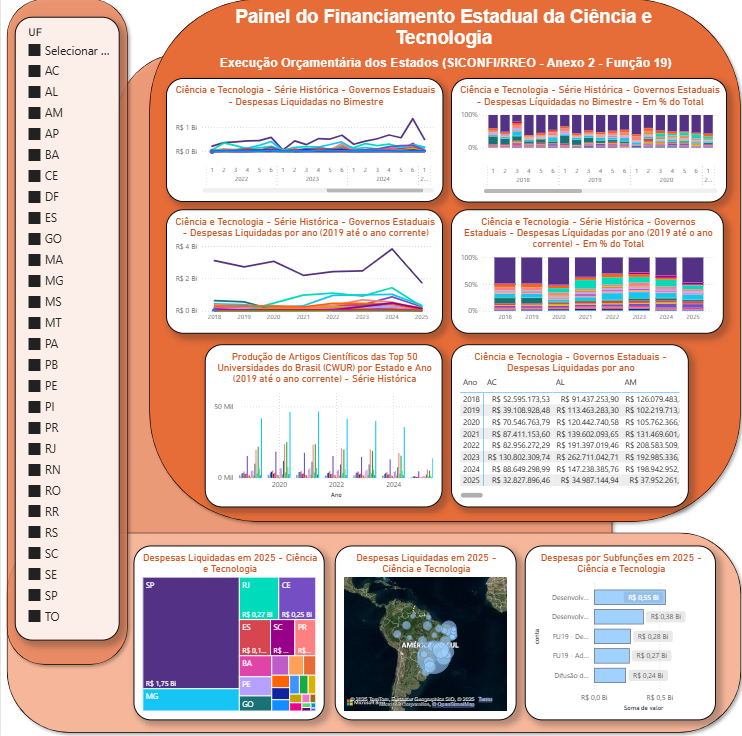

The page's visual inventory and layout, read from the dashboard file:
{"tool":"powerbi","page":{"name":"Demonstrativo do estado","canvas":[1280,1280],"ordinal":0},"visuals":[{"type":"shape","box":[187.5,92.5,872.5,1070],"z":0},{"type":"shape","box":[0,916.7,1280,363.3],"z":1000},{"type":"shape","box":[0,0,227.5,1162.5],"z":2000},{"type":"shape","box":[245,0,1035,917.5],"z":3000},{"type":"slicer","fields":{"Values":["gastos_fun19_liquidados_bimestrais.uf"]},"box":[23.3,40,180,1070],"z":4000},{"type":"textbox","box":[372.5,17.5,772.5,85],"z":5000},{"type":"textbox","box":[352.5,102.5,822.5,55],"z":6000},{"type":"hundredPercentStackedColumnChart","title":"Ciência e Tecnologia - Série Histórica - Governos Estaduais - Despesas Líquidadas por ano (2019 até o ano corrente) - Em % do Total","fields":{"Category":["gastos_fun19_liquidados_bimestrais.exercicio"],"Y":["Sum(gastos_fun19_liquidados_bimestrais.valor)"],"Series":["gastos_fun19_liquidados_bimestrais.uf"]},"box":[771.7,370,468.3,213.3],"z":7000},{"type":"lineChart","title":"Ciência e Tecnologia - Série Histórica - Governos Estaduais - Despesas Liquidadas por ano (2019 até o ano corrente)","fields":{"Category":["gastos_fun19_liquidados_bimestrais.exercicio"],"Y":["Sum(gastos_fun19_liquidados_bimestrais.valor)"],"Series":["gastos_fun19_liquidados_bimestrais.uf"]},"box":[283.3,370,475,213.3],"z":8000},{"type":"lineClusteredColumnComboChart","title":"Produção de Artigos Científicos das Top 50 Universidades do Brasil (CWUR) por Estado e Ano (2019 até o ano corrente) - Série Histórica","fields":{"Category":["top50_universidades_ano_estado.Ano"],"Y":["Sum(top50_universidades_ano_estado.Artigos)"],"Series":["top50_universidades_ano_estado.Estado"]},"box":[350,603.3,408.3,280],"z":9000},{"type":"lineChart","title":"Ciência e Tecnologia - Série Histórica - Governos Estaduais - Despesas Liquidadas no Bimestre","fields":{"Category":["gastos_fun19_liquidados_bimestrais.exercicio Hierarquia.exercicio","gastos_fun19_liquidados_bimestrais.exercicio Hierarquia.bimestre"],"Y":["Sum(gastos_fun19_liquidados_bimestrais.valor)"],"Series":["gastos_fun19_liquidados_bimestrais.uf"]},"box":[282.9,145.7,475.7,212.9],"z":10000},{"type":"hundredPercentStackedColumnChart","title":"Ciência e Tecnologia - Série Histórica - Governos Estaduais - Despesas Líquidadas no Bimestre - Em % do Total","fields":{"Category":["gastos_fun19_liquidados_bimestrais.exercicio Hierarquia.exercicio","gastos_fun19_liquidados_bimestrais.exercicio Hierarquia.bimestre"],"Y":["Sum(gastos_fun19_liquidados_bimestrais.valor)"],"Series":["gastos_fun19_liquidados_bimestrais.uf"]},"box":[771.2,145,473.8,213.8],"z":11000},{"type":"map","title":"Despesas Liquidadas em 2025 - Ciência e Tecnologia","fields":{"Category":["estados.nome"],"Y":["Avg(estados.latitude)"],"X":["Avg(estados.longitude)"],"Size":["Sum(gastos_fun19_liquidados_bimestrais.valor)"]},"box":[571.7,948.3,311.7,300],"z":12000},{"type":"barChart","title":"Despesas por Subfunções em 2025 - Ciência e Tecnologia","fields":{"Category":["gastos_fun19_liquidados_bimestrais.conta"],"Y":["Sum(gastos_fun19_liquidados_bimestrais.valor)"]},"box":[898.3,948.3,328.3,300],"z":12001},{"type":"pivotTable","title":"Ciência e Tecnologia - Governos Estaduais - Despesas Liquidadas por ano","fields":{"Values":["Sum(gastos_fun19_liquidados_bimestrais.valor)"],"Rows":["gastos_fun19_liquidados_bimestrais.exercicio"],"Columns":["gastos_fun19_liquidados_bimestrais.uf"]},"box":[771.7,603.3,408.3,280],"z":12002},{"type":"treemap","title":"Despesas Liquidadas em 2025 - Ciência e Tecnologia","fields":{"Values":["Sum(gastos_fun19_liquidados_bimestrais.valor)"],"Group":["gastos_fun19_liquidados_bimestrais.uf"]},"box":[228.3,948.3,328.3,300],"z":12003}]}

Visuals, with their boxes in screenshot pixels (x1, y1, x2, y2), scaled from the page's 1280x1280 canvas onto the 742x736 screenshot:
shape: {"left": 109, "top": 53, "right": 614, "bottom": 668}
shape: {"left": 0, "top": 527, "right": 741, "bottom": 735}
shape: {"left": 0, "top": 0, "right": 132, "bottom": 668}
shape: {"left": 142, "top": 0, "right": 741, "bottom": 528}
slicer - gastos_fun19_liquidados_bimestrais.uf: {"left": 14, "top": 23, "right": 118, "bottom": 638}
textbox: {"left": 216, "top": 10, "right": 664, "bottom": 59}
textbox: {"left": 204, "top": 59, "right": 681, "bottom": 91}
"Ciência e Tecnologia - Série Histórica - Governos Estaduais - Despesas Líquidadas por ano (2019 até o ano corrente) - Em % do Total" hundredPercentStackedColumnChart: {"left": 447, "top": 213, "right": 719, "bottom": 335}
"Ciência e Tecnologia - Série Histórica - Governos Estaduais - Despesas Liquidadas por ano (2019 até o ano corrente)" lineChart: {"left": 164, "top": 213, "right": 440, "bottom": 335}
"Produção de Artigos Científicos das Top 50 Universidades do Brasil (CWUR) por Estado e Ano (2019 até o ano corrente) - Série Histórica" lineClusteredColumnComboChart: {"left": 203, "top": 347, "right": 440, "bottom": 508}
"Ciência e Tecnologia - Série Histórica - Governos Estaduais - Despesas Liquidadas no Bimestre" lineChart: {"left": 164, "top": 84, "right": 440, "bottom": 206}
"Ciência e Tecnologia - Série Histórica - Governos Estaduais - Despesas Líquidadas no Bimestre - Em % do Total" hundredPercentStackedColumnChart: {"left": 447, "top": 83, "right": 722, "bottom": 206}
"Despesas Liquidadas em 2025 - Ciência e Tecnologia" map: {"left": 331, "top": 545, "right": 512, "bottom": 718}
"Despesas por Subfunções em 2025 - Ciência e Tecnologia" barChart: {"left": 521, "top": 545, "right": 711, "bottom": 718}
"Ciência e Tecnologia - Governos Estaduais - Despesas Liquidadas por ano" pivotTable: {"left": 447, "top": 347, "right": 684, "bottom": 508}
"Despesas Liquidadas em 2025 - Ciência e Tecnologia" treemap: {"left": 132, "top": 545, "right": 323, "bottom": 718}
